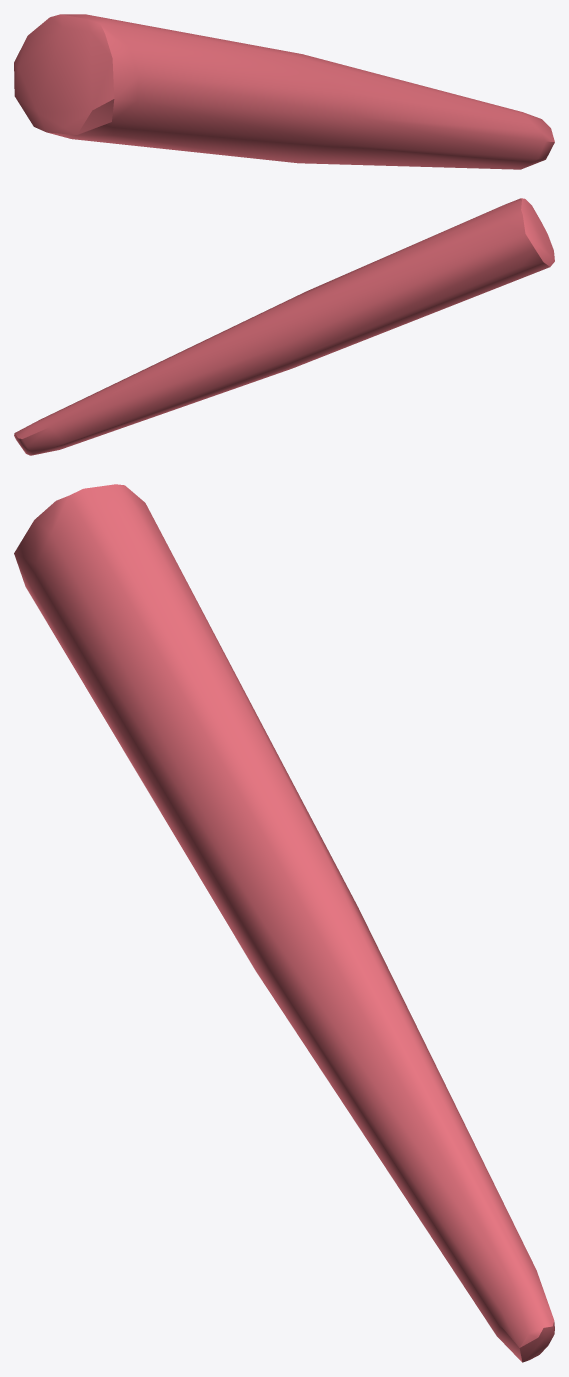
File: fma68135_fj5965.glb
The picture shows the model from 3 angles, top to bottom: view 1: azimuth 30°, elevation 25°; view 2: azimuth 150°, elevation 25°; view 3: azimuth 270°, elevation 25°; orthographic projection. The views are drawn at different scales.
Visible parts, largest first — view 1: FMA68135_FJ5965; view 2: FMA68135_FJ5965; view 3: FMA68135_FJ5965.
Part boxes in pixels (x1,y1,x2,y2): FMA68135_FJ5965: (14, 14, 554, 169); FMA68135_FJ5965: (14, 198, 554, 455); FMA68135_FJ5965: (14, 484, 554, 1362).
Bounding box in the file's own units: 0.0231 × 0.0137 × 0.0131.
